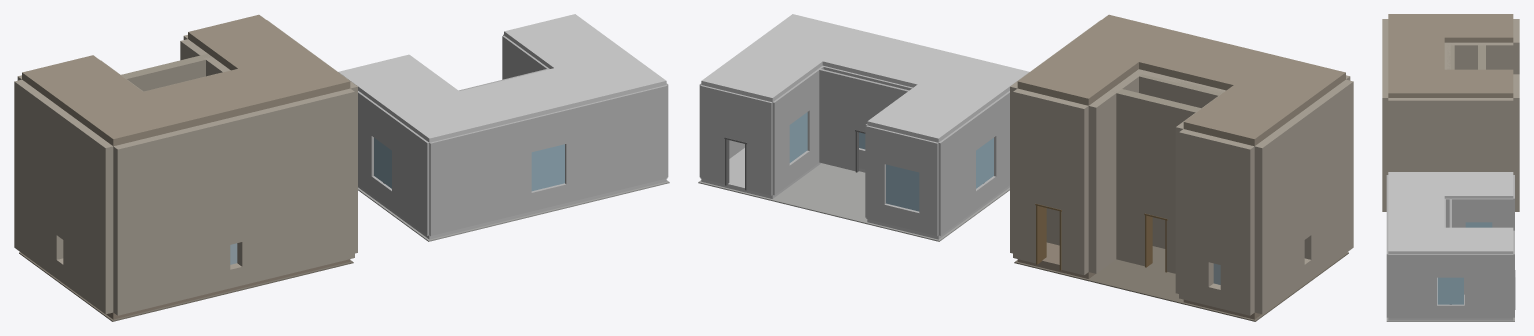
The picture shows the model from 3 angles, left to right: view 1: azimuth 30°, elevation 25°; view 2: azimuth 150°, elevation 25°; view 3: azimuth 270°, elevation 25°; orthographic projection. The views are drawn at different scales.
Parts seen in each view (by area): view 1: medieval_008, medieval_011, medieval_002, modern_002, modern_008, modern_011, medieval_006, medieval_003, modern_006, medieval_010, modern_003, modern_012 (+14 smaller); view 2: medieval_002, modern_002, medieval_003, medieval_006, medieval_039, medieval_046, medieval_042, medieval_024, medieval_018, modern_000, medieval_020, modern_003 (+32 smaller); view 3: medieval_002, modern_002, medieval_013, medieval_016, modern_013, modern_016, medieval_011, medieval_034, medieval_020, modern_017, medieval_015, modern_036 (+13 smaller).
Part boxes in pixels (box(x1,y1,x2,y2)): medieval_008: box(113, 119, 230, 315); medieval_011: box(237, 88, 354, 285); medieval_002: box(22, 14, 350, 146); modern_002: box(338, 14, 666, 142); modern_008: box(429, 118, 531, 236); modern_011: box(565, 85, 667, 202); medieval_006: box(63, 115, 113, 314); medieval_003: box(14, 79, 63, 278); modern_006: box(392, 116, 429, 235); medieval_010: box(226, 116, 242, 244); modern_003: box(358, 91, 373, 194); modern_012: box(531, 144, 564, 191); medieval_002: box(1017, 14, 1345, 146); modern_002: box(701, 14, 1029, 142); medieval_003: box(1254, 115, 1304, 314); medieval_006: box(1304, 79, 1353, 278); medieval_039: box(1220, 139, 1254, 315); medieval_046: box(1046, 89, 1151, 266); medieval_042: box(1179, 129, 1213, 305); medieval_024: box(1088, 90, 1117, 273); medieval_018: box(1060, 100, 1088, 274); modern_000: box(698, 163, 1009, 241); medieval_020: box(1013, 88, 1040, 263); modern_003: box(938, 116, 975, 235); medieval_002: box(1388, 14, 1513, 97); modern_002: box(1388, 172, 1513, 254); medieval_013: box(1455, 98, 1513, 171); medieval_016: box(1388, 98, 1446, 171); modern_013: box(1464, 254, 1513, 318); modern_016: box(1388, 254, 1436, 318); medieval_011: box(1382, 60, 1388, 211); medieval_034: box(1483, 42, 1513, 69); medieval_020: box(1513, 90, 1519, 211); modern_017: box(1437, 277, 1463, 304); medieval_015: box(1446, 98, 1455, 171); modern_036: box(1465, 198, 1492, 222).
Bounding box in the file's own units: 28.49 × 8.77 × 8.8.
